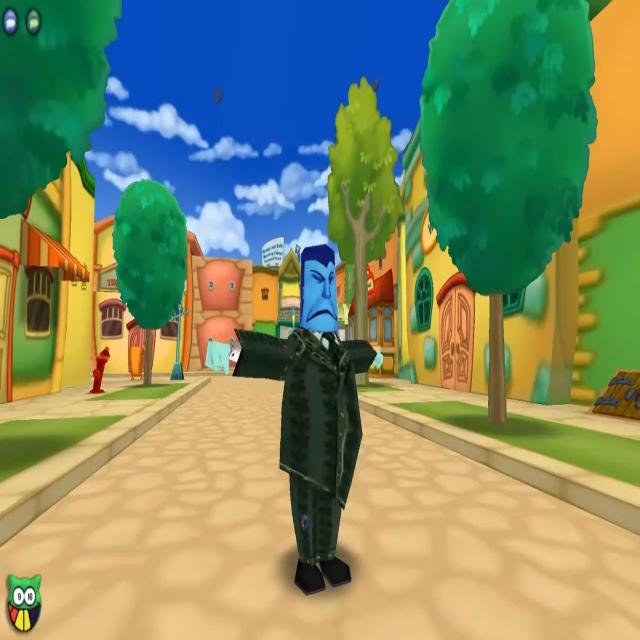shortchange: (208, 257, 386, 601)
